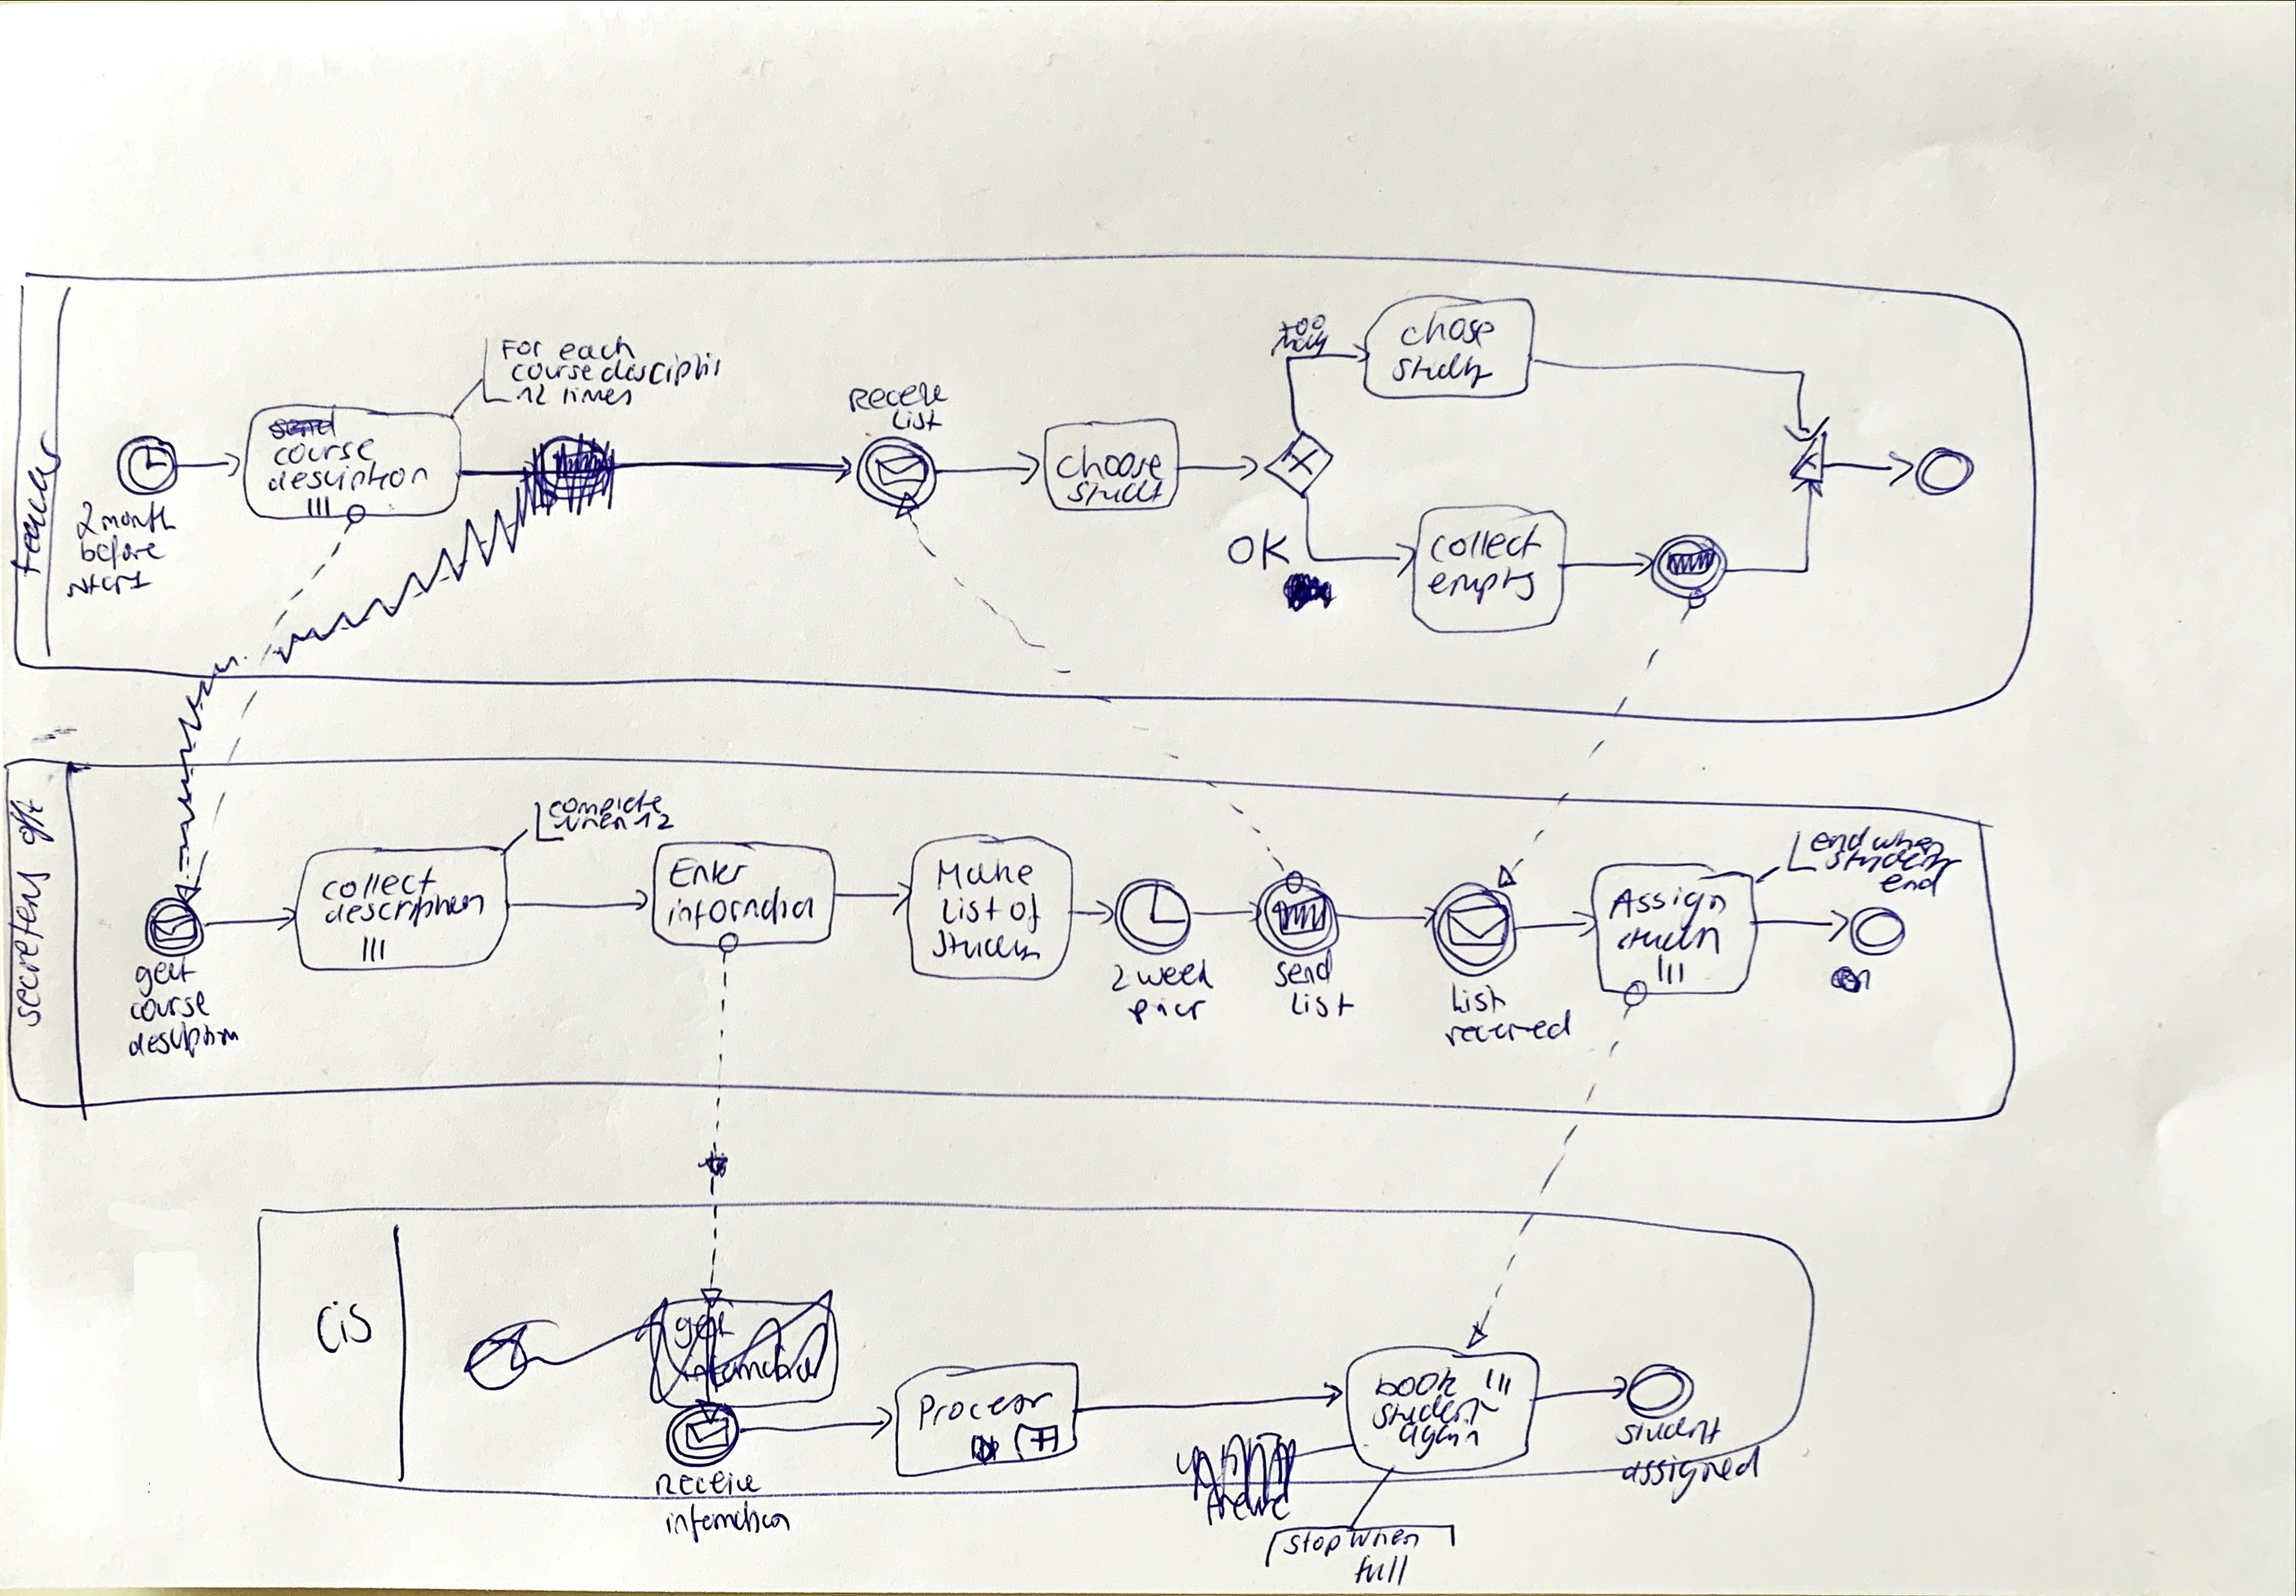12: (634, 808, 673, 833), (516, 381, 552, 409)
2: (75, 501, 100, 538), (1111, 963, 1130, 992)
Assign: (1605, 885, 1729, 929)
CiS: (307, 1305, 367, 1358)
Enter: (669, 856, 749, 890)
For: (498, 337, 544, 361)
III: (1655, 955, 1688, 987), (1484, 1366, 1514, 1396), (358, 935, 387, 964), (305, 496, 335, 520)
Make: (934, 857, 1033, 889)
OK: (1226, 528, 1290, 573)
Process: (908, 1398, 1051, 1434)
Recele: (846, 389, 946, 417)
[end: (1778, 835, 1868, 878)
again: (1400, 1421, 1484, 1456)
assigned: (1621, 1448, 1761, 1504)
before: (78, 537, 168, 570)
book: (1373, 1368, 1460, 1396)
choose: (1055, 442, 1163, 480)
chose: (1401, 310, 1496, 349)
collect: (1425, 521, 1546, 563), (321, 867, 432, 899)
complete: (544, 799, 665, 822)
course: (272, 445, 377, 470), (127, 999, 212, 1024), (510, 363, 594, 382)
desciption: (265, 467, 428, 498)
description: (322, 904, 485, 935), (122, 1033, 236, 1071)
disciplis: (597, 360, 722, 391)
each: (557, 334, 640, 361)
end: (1878, 868, 1945, 895)
errupts: (1428, 567, 1542, 605)
full: (1355, 1555, 1412, 1588)
get: (133, 956, 197, 997)
information: (663, 1502, 792, 1543), (664, 889, 814, 925)
list: (1287, 989, 1354, 1020), (940, 895, 1003, 925), (1448, 983, 1506, 1016), (890, 407, 945, 432)
many: (1264, 338, 1331, 363)
month: (100, 501, 180, 534)
of: (1009, 893, 1046, 933)
office: (11, 798, 55, 846)
prior: (1125, 995, 1206, 1026)
receive: (654, 1468, 760, 1498)
recered: (1440, 1019, 1572, 1053)
secretary: (8, 870, 51, 1027)
send: (1273, 947, 1333, 989)
start: (65, 571, 153, 599)
stop: (1283, 1529, 1344, 1557)
stucin: (1616, 924, 1722, 953)
student: (1826, 849, 1958, 874), (1618, 1420, 1722, 1446)
students: (1373, 1399, 1500, 1427), (932, 929, 1041, 961)
studt: (1066, 481, 1166, 506)
study: (1390, 353, 1495, 391)
teacher: (25, 428, 67, 574)
times: (560, 387, 635, 406)
too: (1275, 318, 1329, 337)
week: (1138, 958, 1215, 994)
when: (1874, 826, 1947, 849), (1347, 1529, 1422, 1551), (556, 812, 629, 832)
